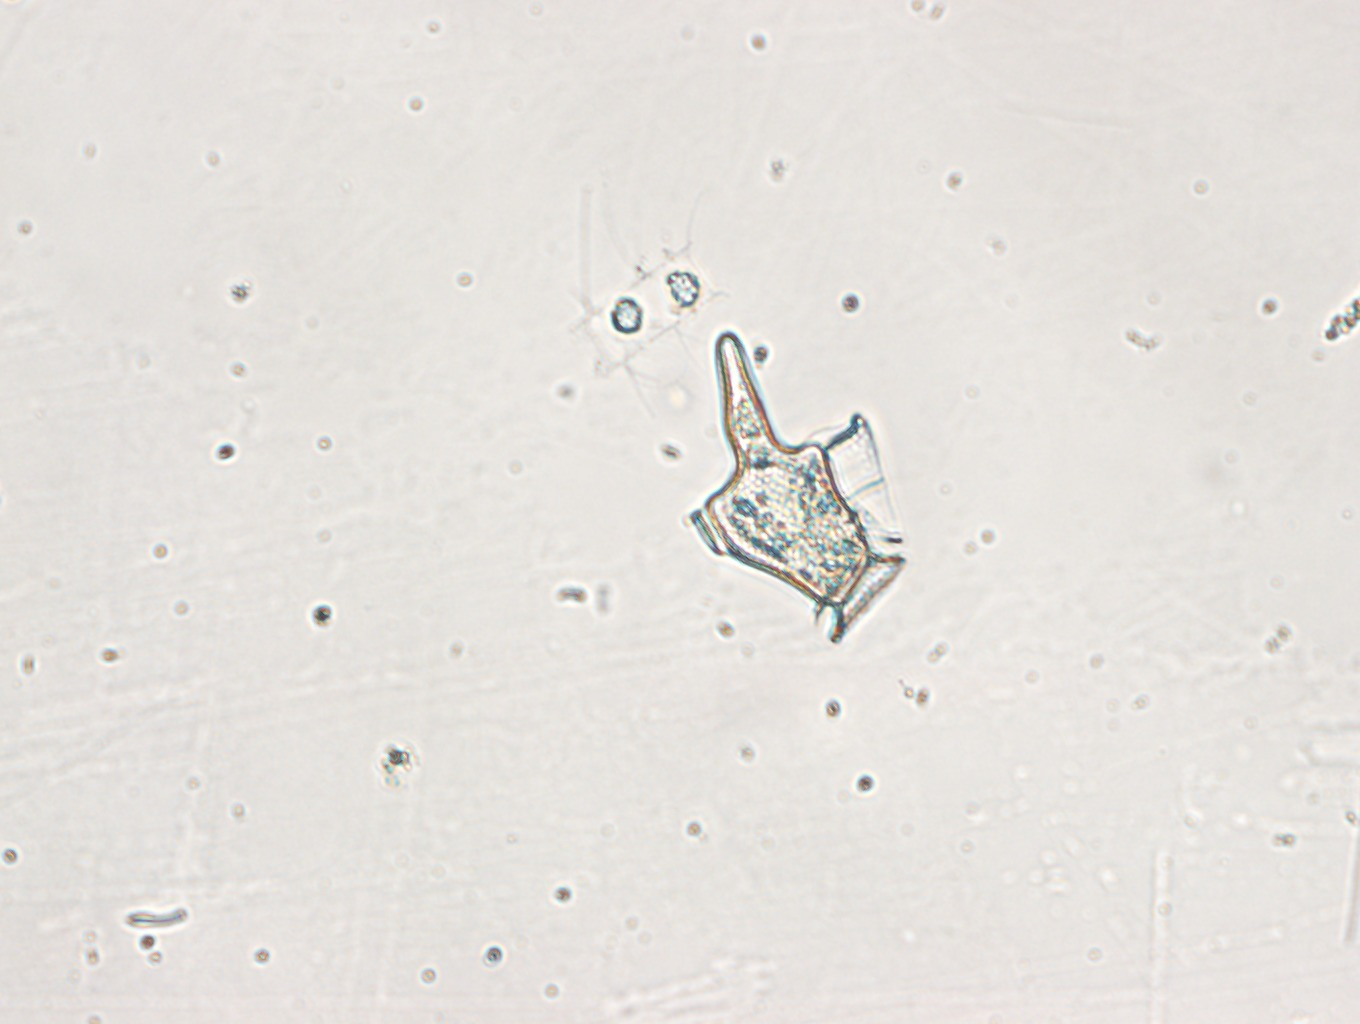chaetoceros: (567, 176, 729, 421)
dinophysis caudata: (685, 330, 906, 649)
